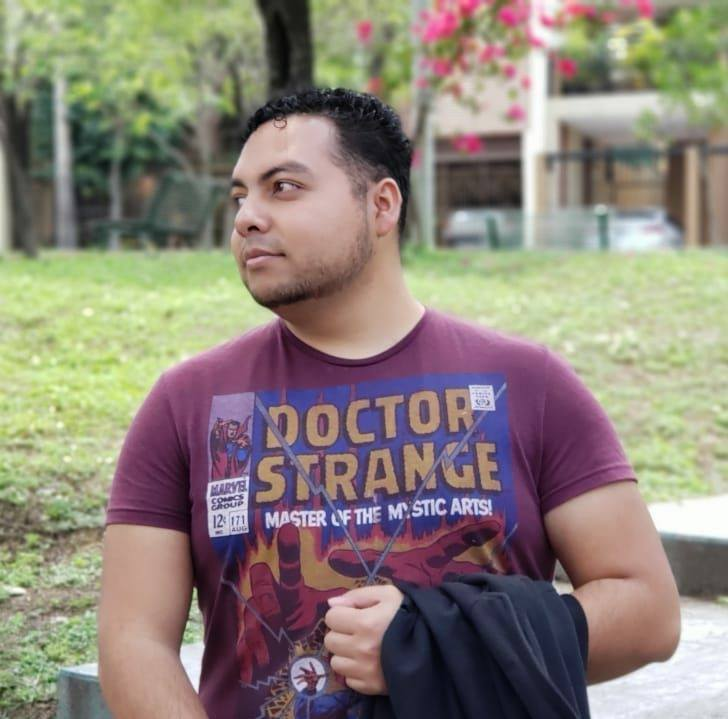Yoshi: (97, 73, 700, 694)
